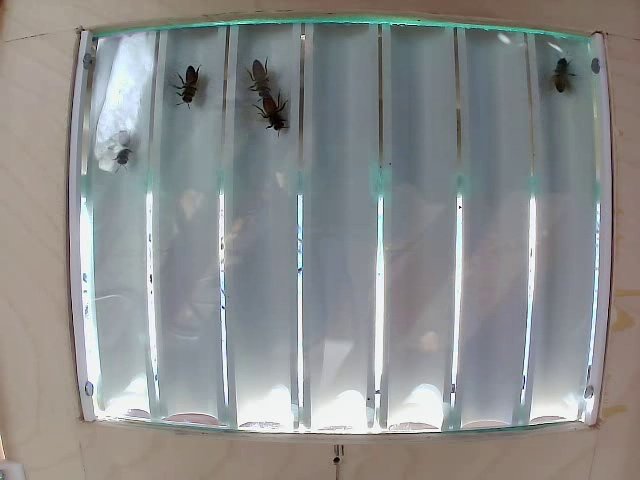bee: (246, 94, 301, 141), (244, 61, 286, 102), (103, 123, 141, 167), (170, 68, 210, 108), (551, 55, 579, 96)
